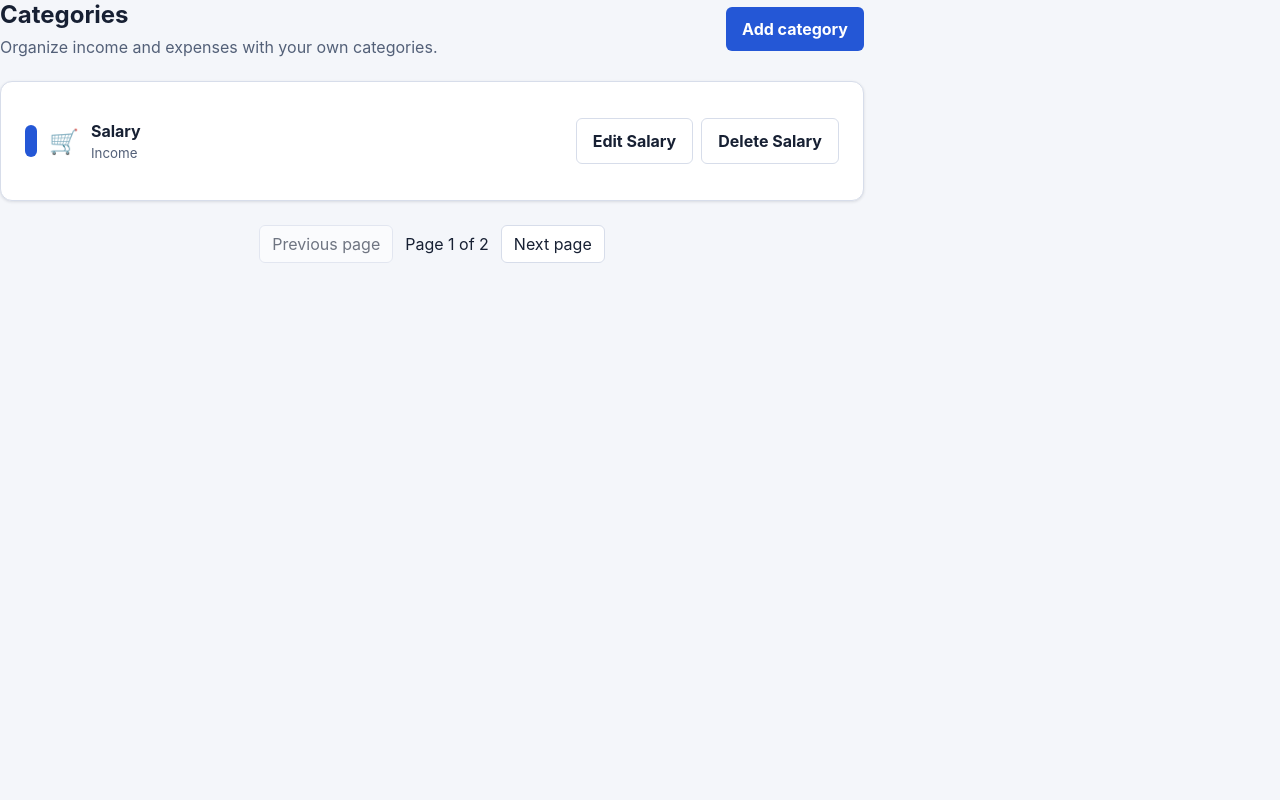
Test case: returns to the preceding page after deleting its last category
Expected: the text "Salary" is shown, x1=91 y1=121 x2=141 y2=141
Click the button "Next page".
click(553, 244)  # box x1=501 y1=225 x2=605 y2=263
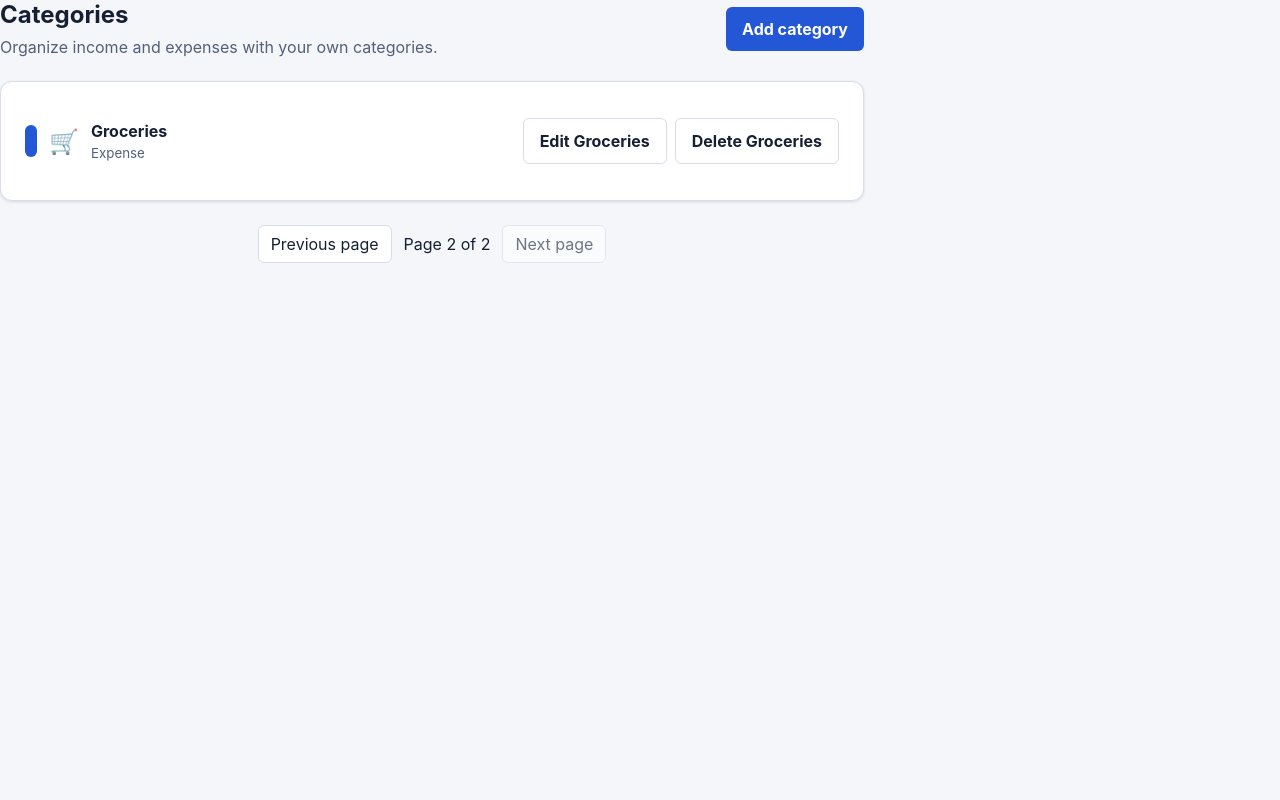
Expected: the text "Groceries" is shown, x1=91 y1=121 x2=167 y2=141
Click the button "Delete Groceries".
click(757, 141)  # box x1=675 y1=118 x2=839 y2=164
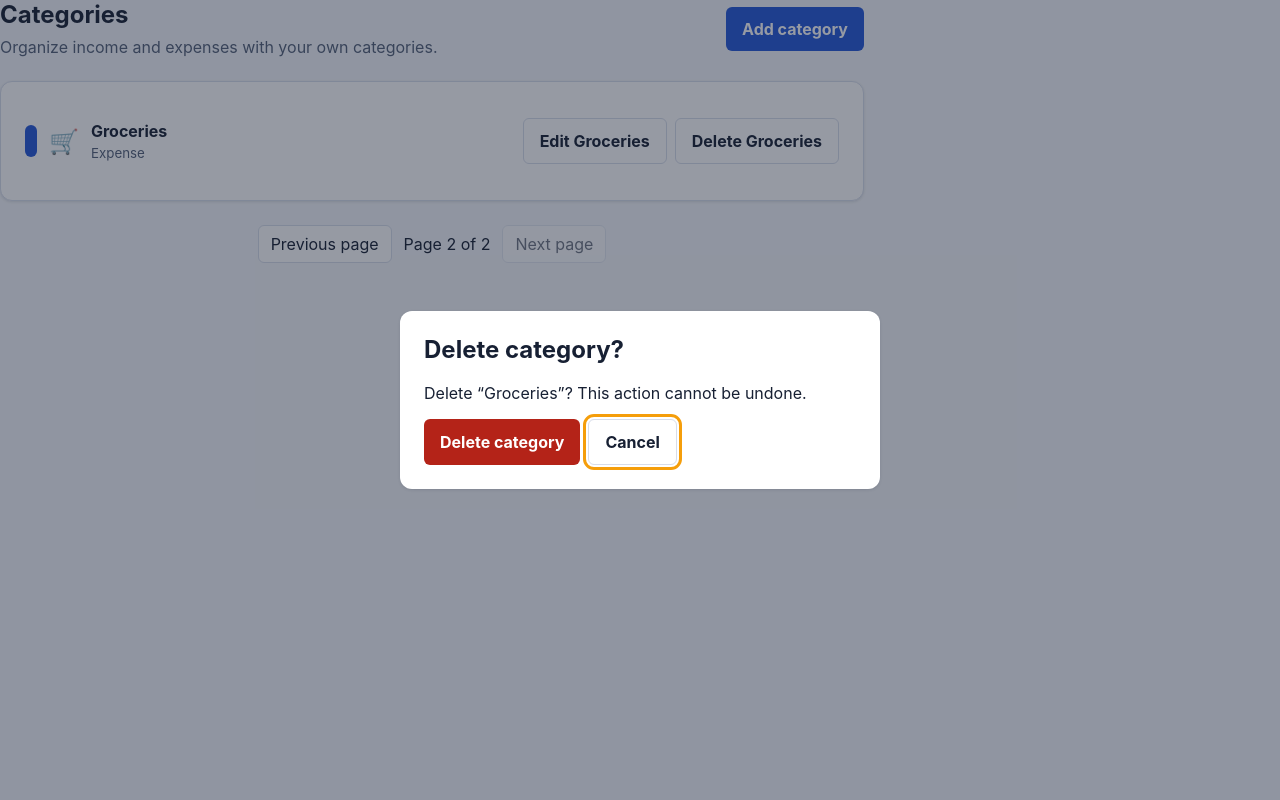
Click the button "Delete category".
click(502, 442)  # box x1=424 y1=420 x2=580 y2=466
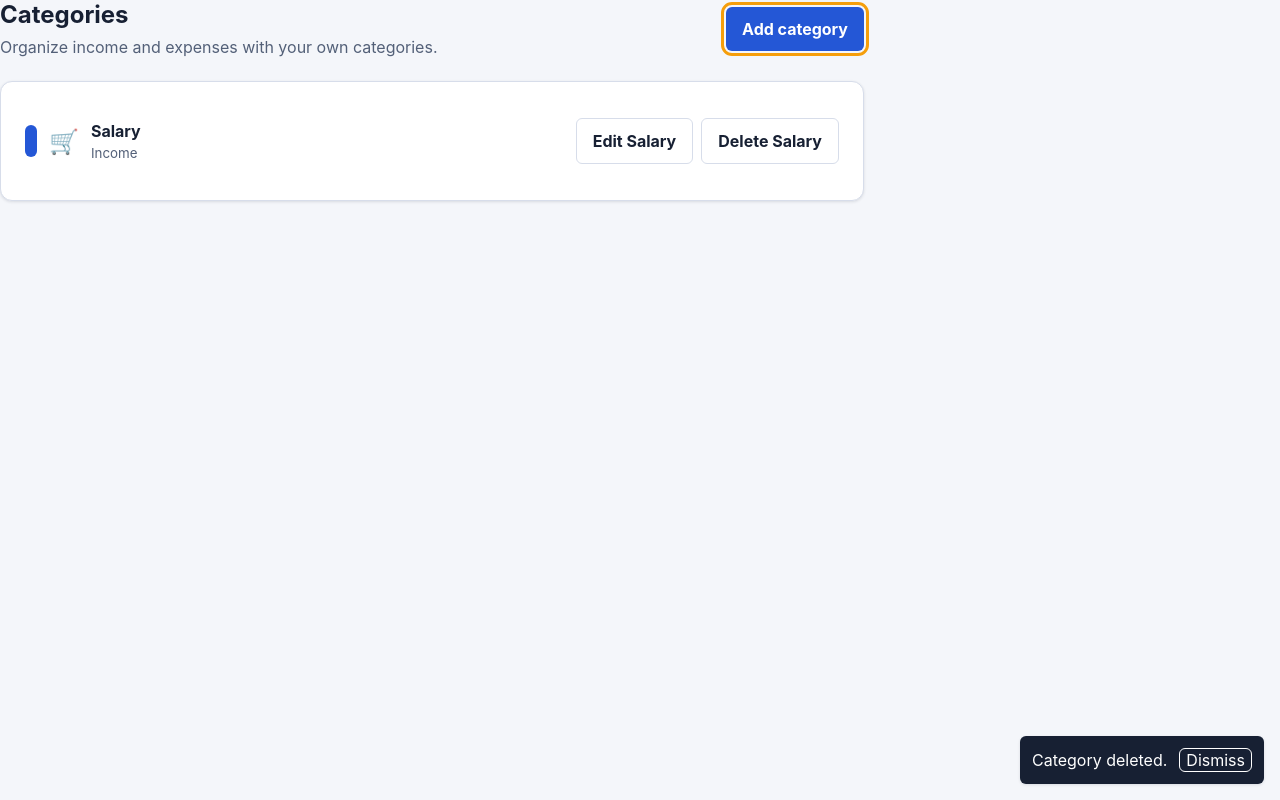
Expected: the text "Salary" is shown, x1=91 y1=121 x2=141 y2=141
